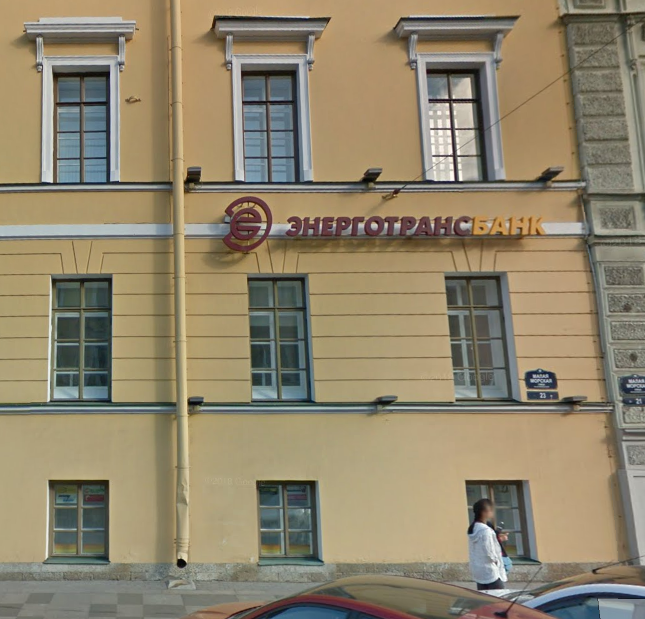signboard: (214, 192, 548, 260)
window: (445, 278, 516, 400), (251, 275, 312, 407), (54, 274, 109, 400), (54, 68, 110, 183), (430, 69, 484, 185), (245, 68, 300, 181), (459, 482, 534, 564), (253, 480, 321, 561), (52, 481, 107, 563)
